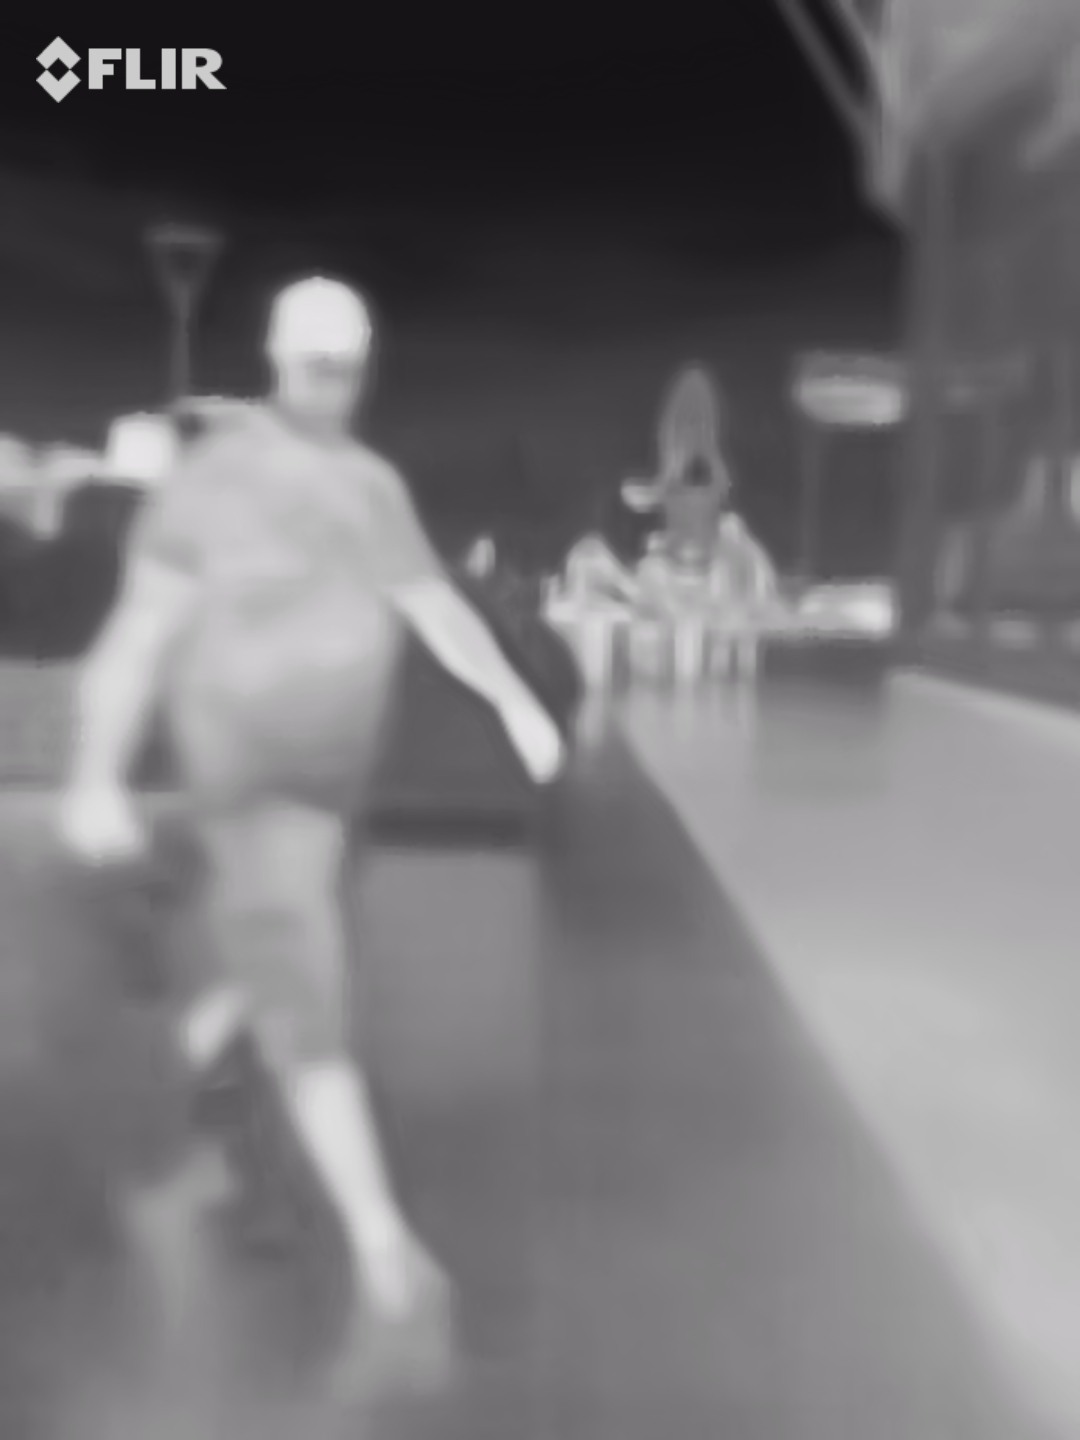head: (263, 271, 380, 421)
